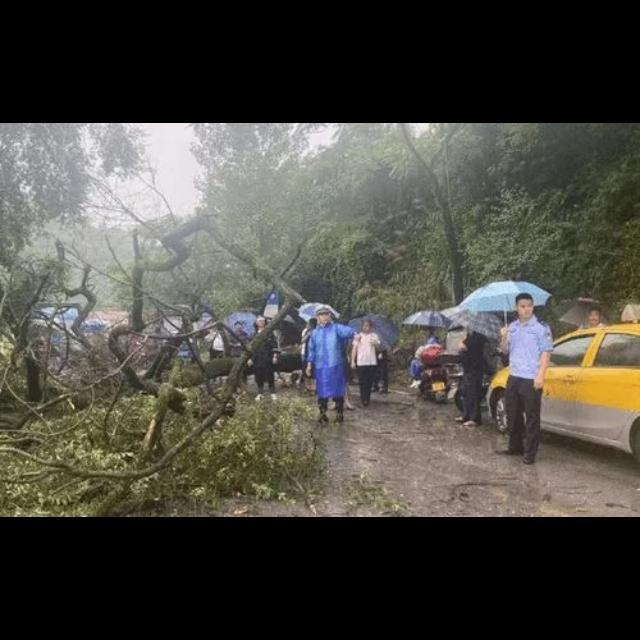fallen_tree: (10, 210, 312, 502)
